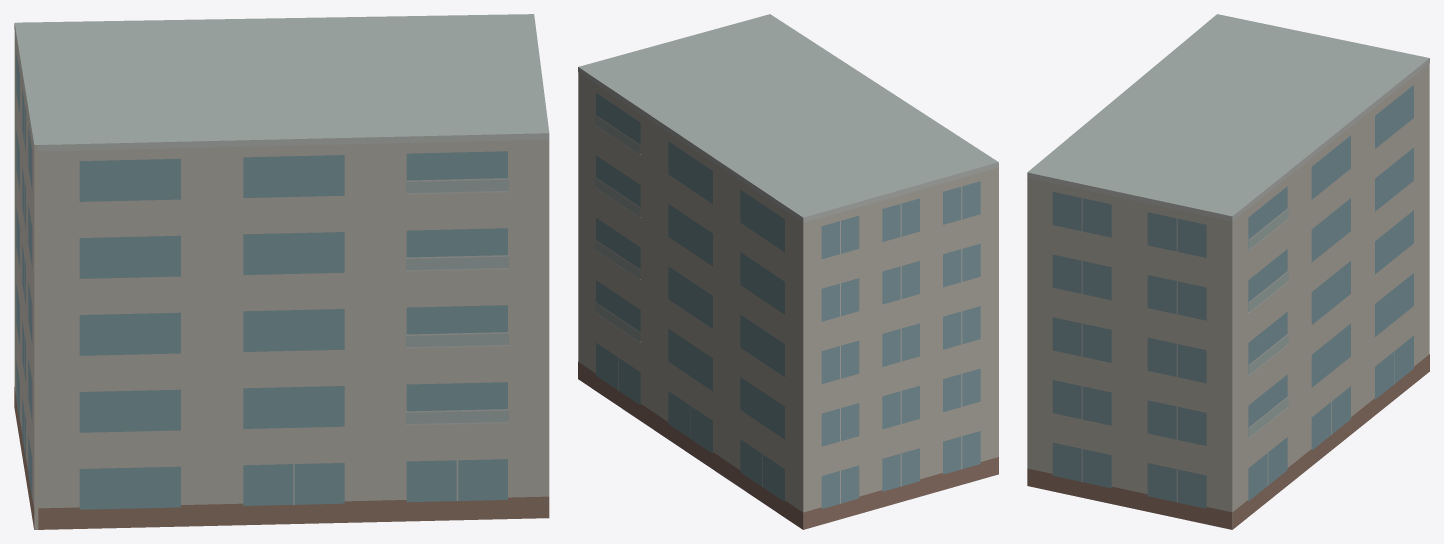
Rendered from survey-upis-32680498.glb.
The picture shows the model from 3 angles, left to right: view 1: azimuth 30°, elevation 25°; view 2: azimuth 150°, elevation 25°; view 3: azimuth 270°, elevation 25°; orthographic projection. The views are drawn at different scales.
Parts seen in each view (by area): view 1: survey-upis-32680498.tmp; view 2: survey-upis-32680498.tmp; view 3: survey-upis-32680498.tmp.
Boxes of the visible parts, bbox=[...] form: survey-upis-32680498.tmp: bbox=[14, 14, 549, 529]; survey-upis-32680498.tmp: bbox=[578, 14, 998, 529]; survey-upis-32680498.tmp: bbox=[1027, 14, 1429, 529].
Size of the model in its own units: 20.09 by 14.5 by 16.88.
